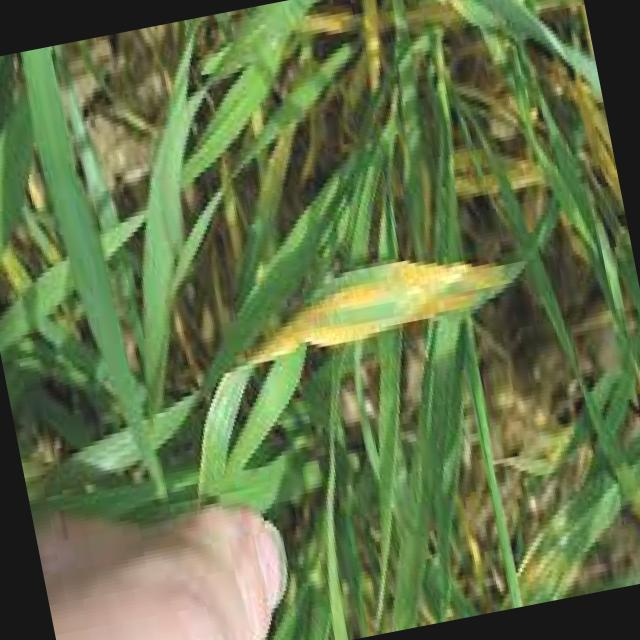leaf_blight: (241, 264, 511, 366)
